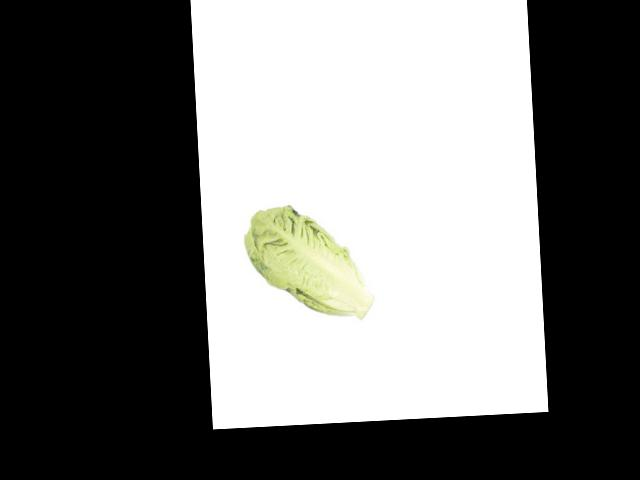lettuce: (246, 219, 362, 324)
